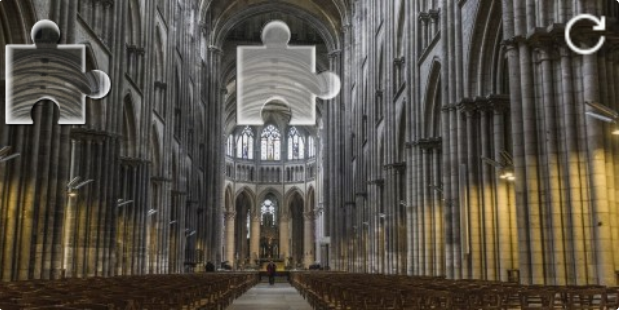target: (235, 20, 340, 125)
